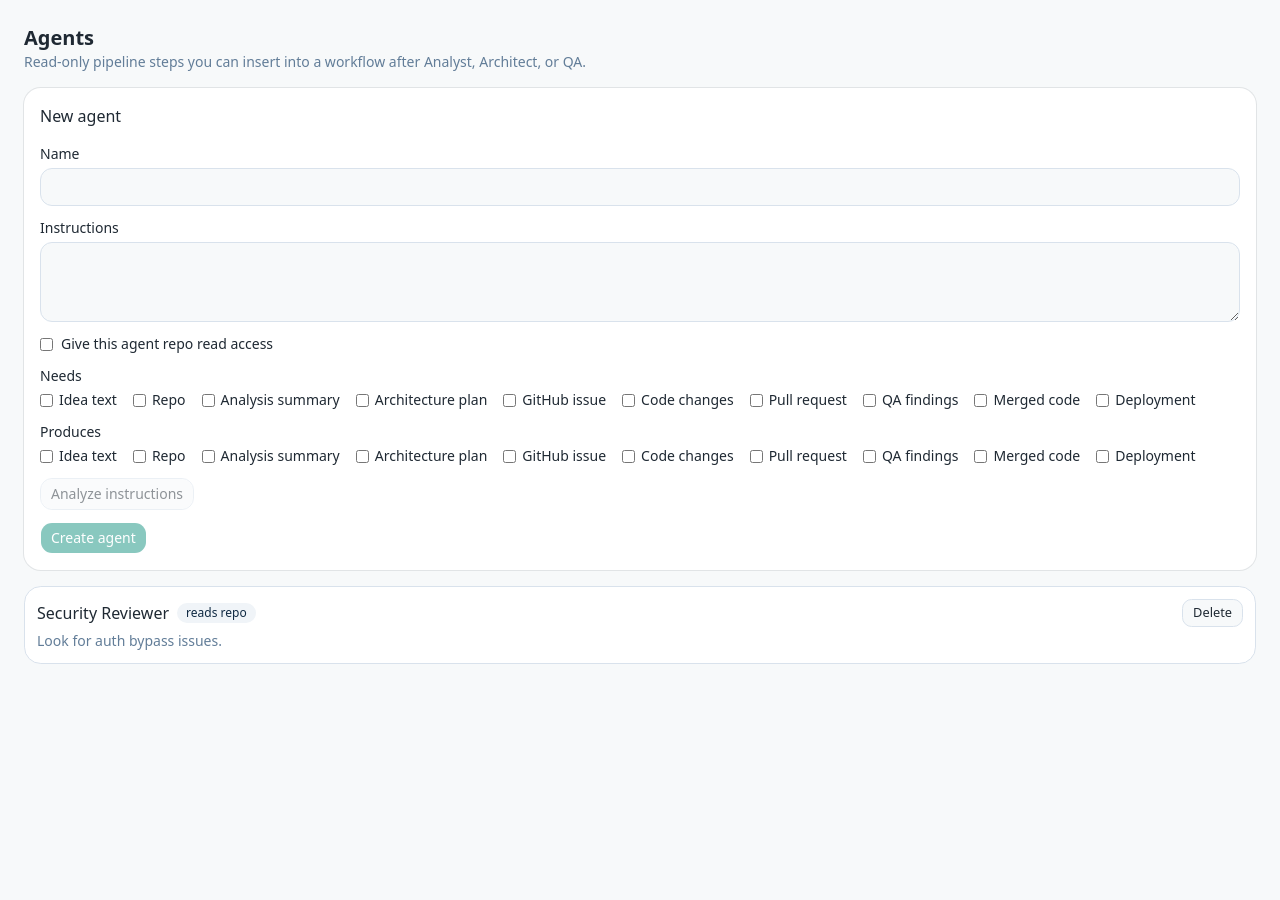
Test case: AgentsView › shows an error message when deleting an in-use agent fails with 409
Expected: the text "Security Reviewer" is shown, [37, 601, 169, 625]
Click the button "Delete": (1213, 613) [1182, 599, 1243, 627]
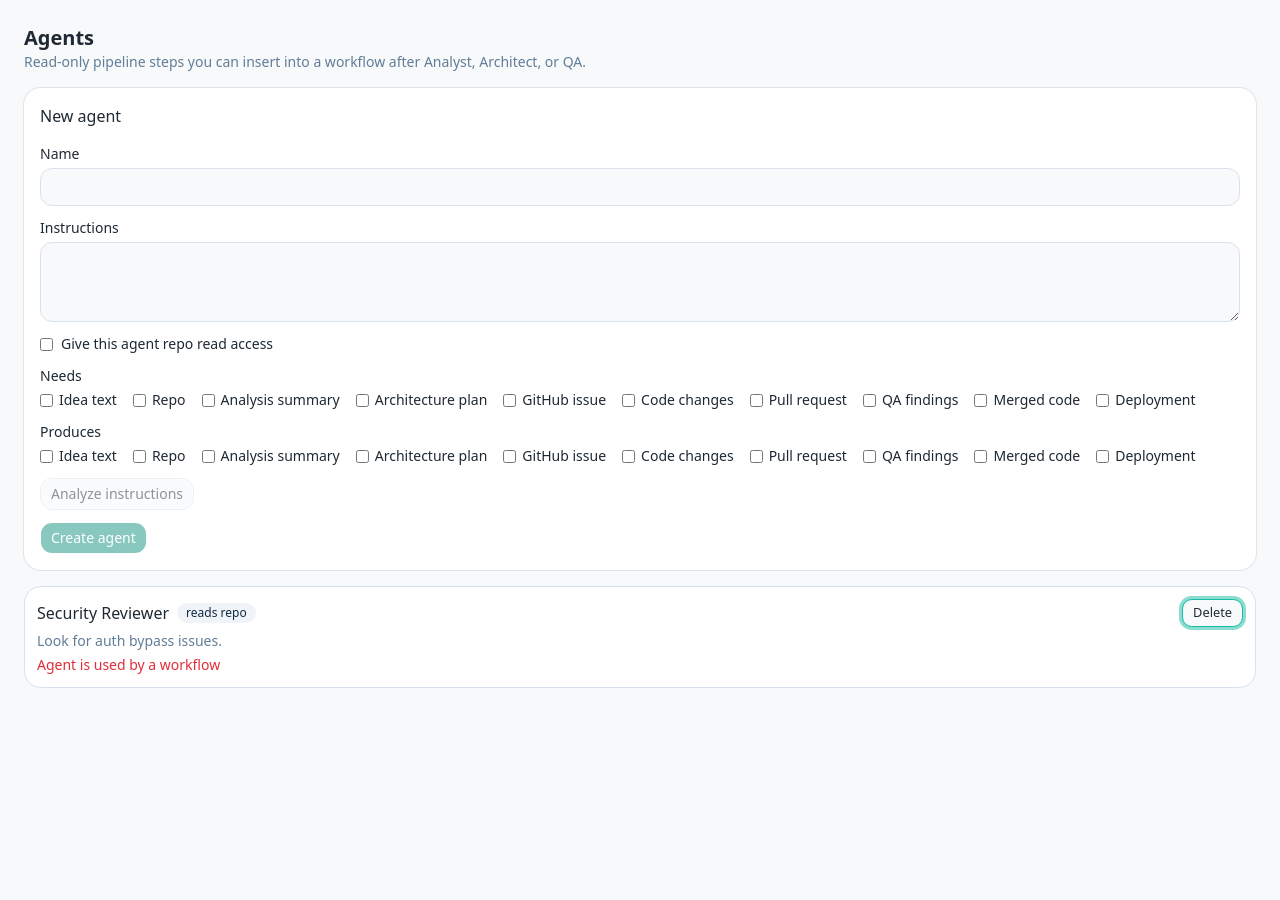
Expected: the text "Security Reviewer" is shown, [37, 601, 169, 625]
Expected: the text "Agent is used by a workflow" is shown, [37, 655, 220, 674]
